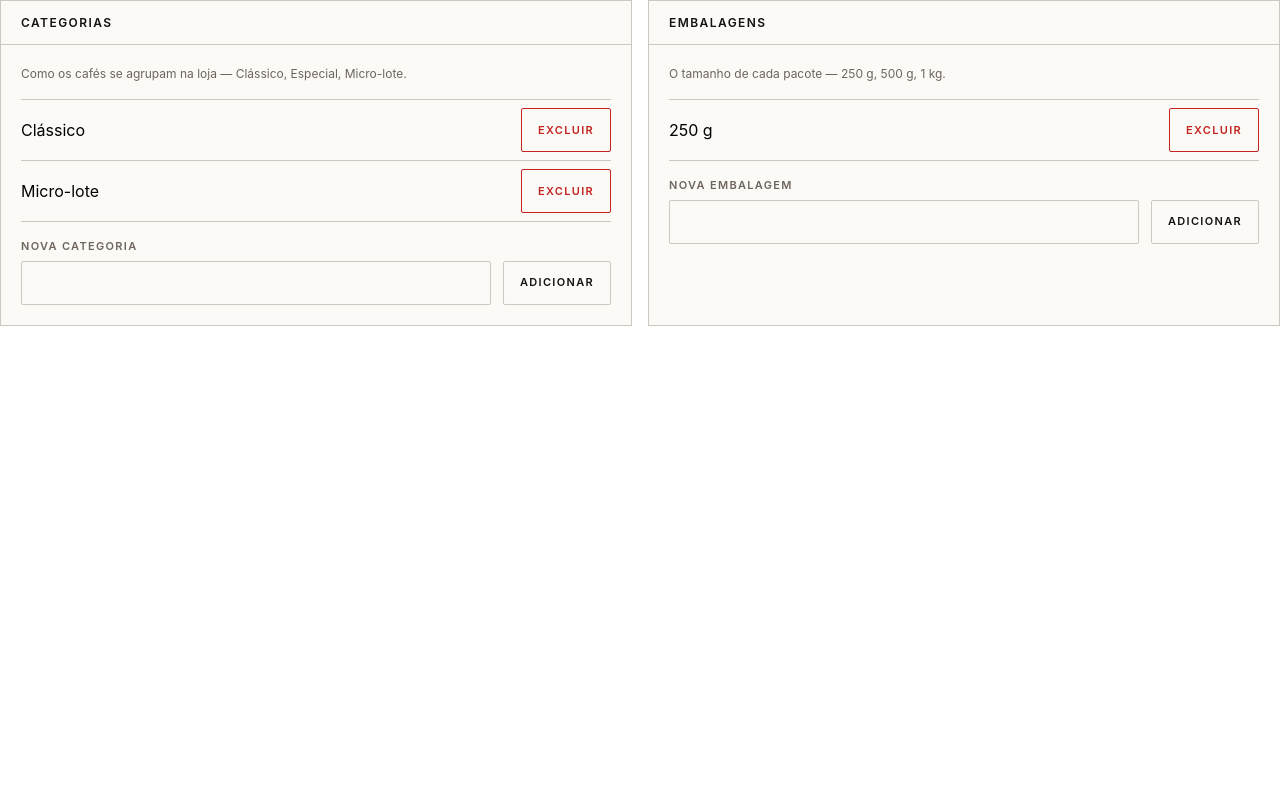
Test case: excluir — R11/R12 › no erro, a frase do servidor aparece dentro do diálogo, que continua aberto
The image size is (1280, 800).
Click the 1st button "Excluir".
click(566, 130)  # box [521,108,611,152]
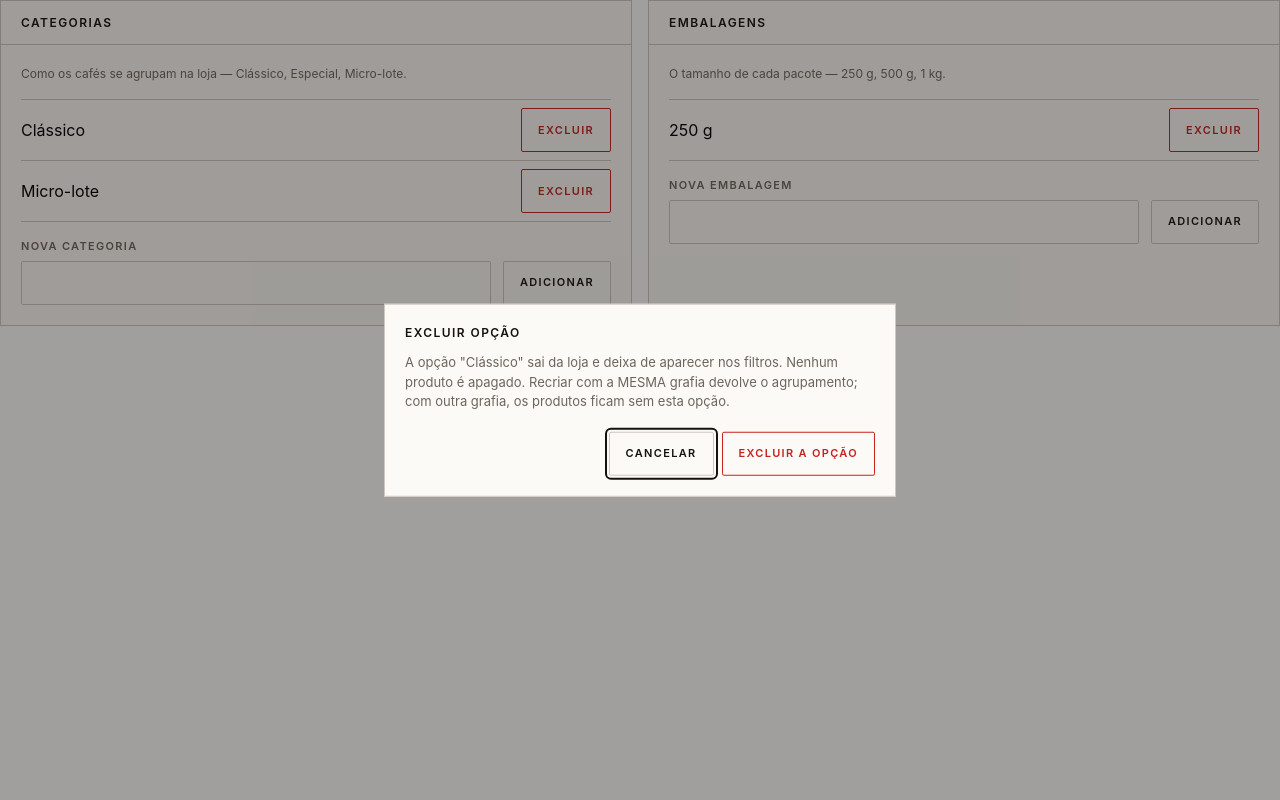
Click the button "Excluir a opção".
click(798, 453)  # box [722,431,875,475]
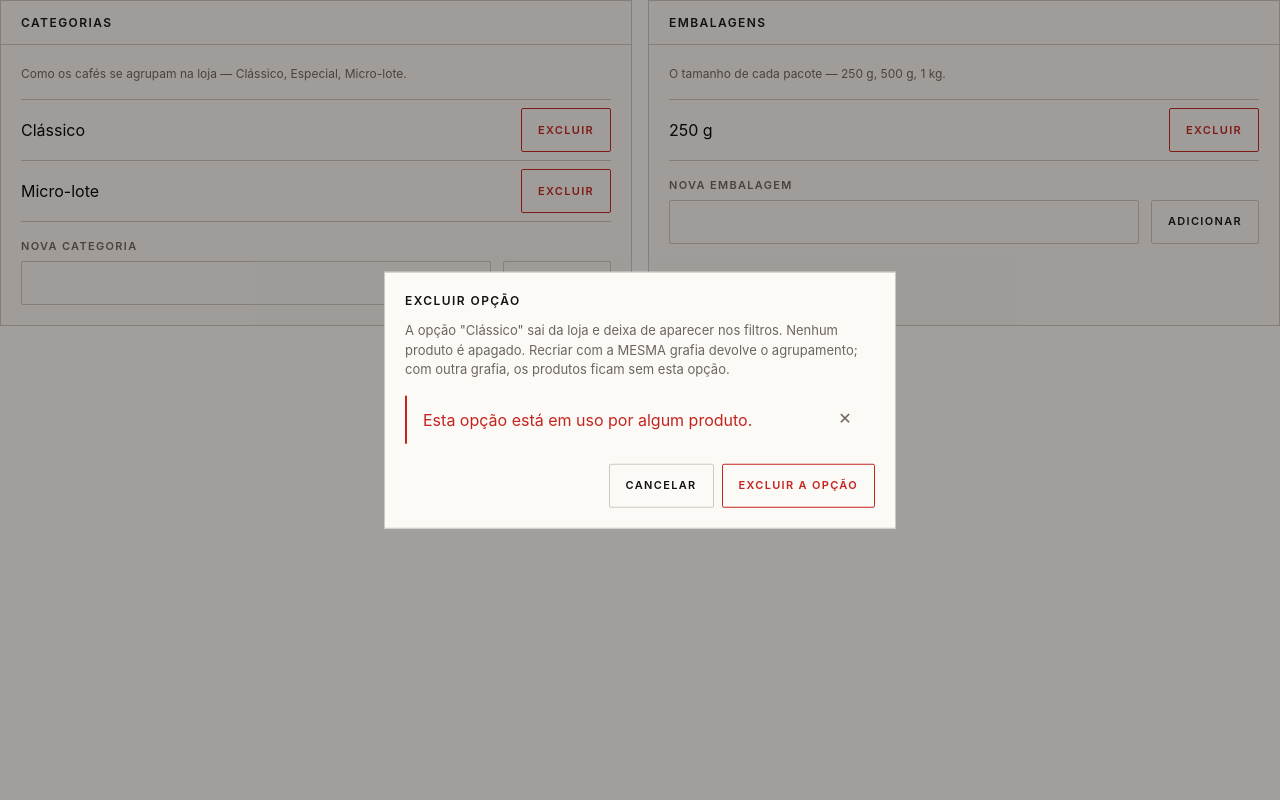
Result: the button "Excluir a opção" is shown at [722,463,875,507]
Result: the text "Esta opção está em uso por algum produto." is shown at [423,409,752,429]
